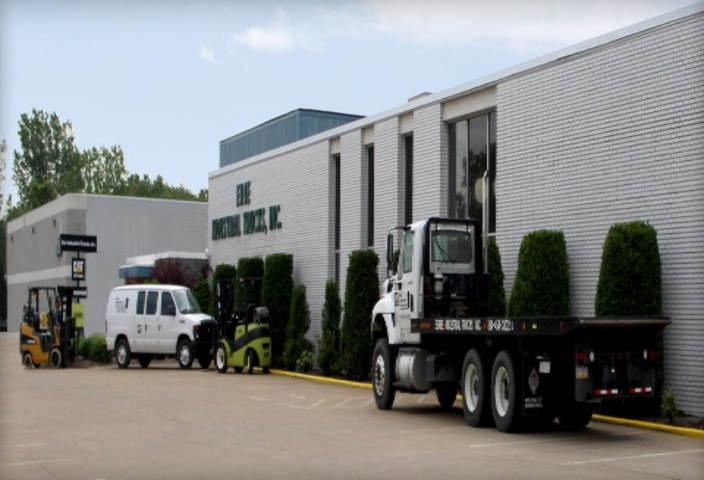industrial: (16, 273, 97, 374)
truck: (329, 206, 679, 429)
van: (93, 281, 221, 370)
